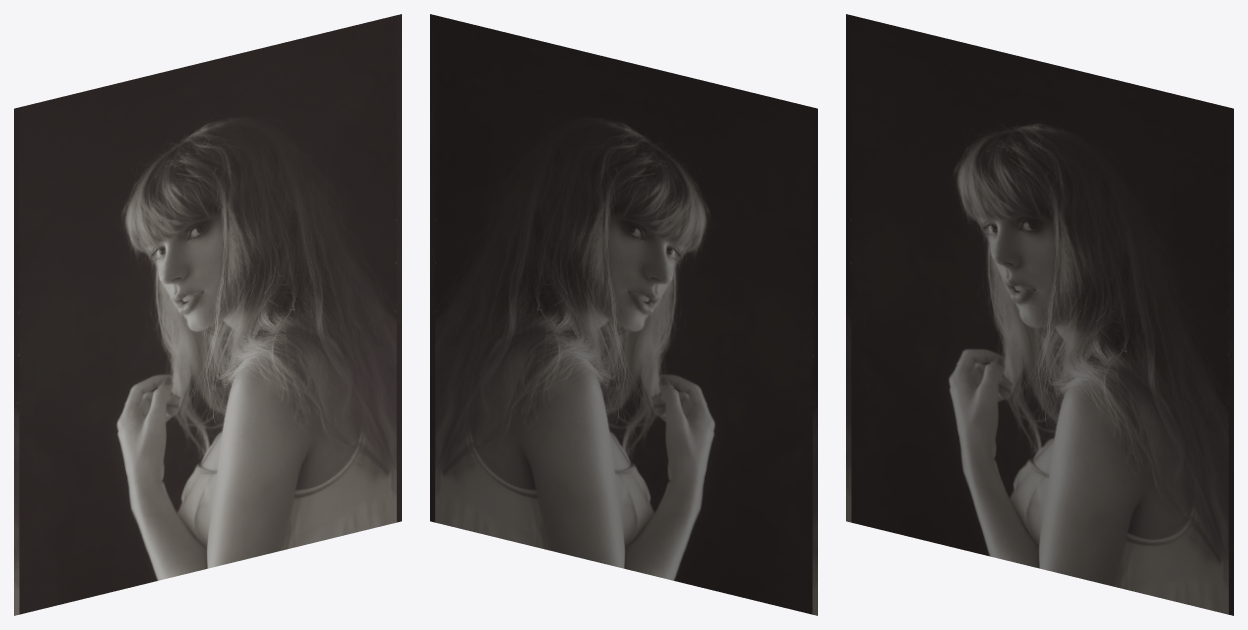
File: TTPD.obj
The picture shows the model from 3 angles, left to right: view 1: azimuth 30°, elevation 25°; view 2: azimuth 150°, elevation 25°; view 3: azimuth 330°, elevation 25°; orthographic projection.
Visible parts, largest first — view 1: Fountain1:Fountain:pPlane1; view 2: Fountain1:Fountain:pPlane1; view 3: Fountain1:Fountain:pPlane1.
Boxes of the visible parts, box(x1,y1,x2,y2) form: Fountain1:Fountain:pPlane1: box(14, 14, 401, 615); Fountain1:Fountain:pPlane1: box(430, 14, 817, 615); Fountain1:Fountain:pPlane1: box(846, 14, 1233, 615).
Bounding box in the file's own units: 4.22 × 5.28 × 0.
Materials: 1 (1 with a texture image).
